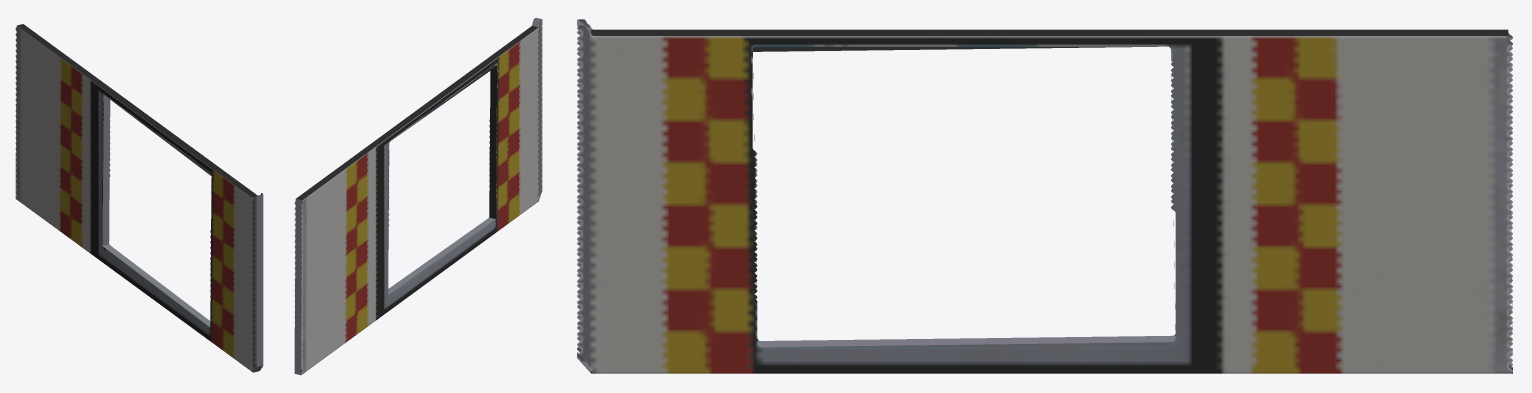
The model's file is pz_native_location_shop_gas2go_01_6_frame.obj.
The picture shows the model from 3 angles, left to right: view 1: azimuth 30°, elevation 25°; view 2: azimuth 150°, elevation 25°; view 3: azimuth 270°, elevation 25°; orthographic projection. The views are drawn at different scales.
Visible parts, largest first — view 1: pz_native_location_shop_gas2go_01_6_frame; view 2: pz_native_location_shop_gas2go_01_6_frame; view 3: pz_native_location_shop_gas2go_01_6_frame.
Part boxes in pixels (x1,y1,x2,y2): pz_native_location_shop_gas2go_01_6_frame: (15, 24, 263, 372); pz_native_location_shop_gas2go_01_6_frame: (294, 17, 542, 375); pz_native_location_shop_gas2go_01_6_frame: (577, 19, 1512, 373).
Size of the model in its own units: 0.04 by 1.06 by 2.54.
1 material, 1 textured.
